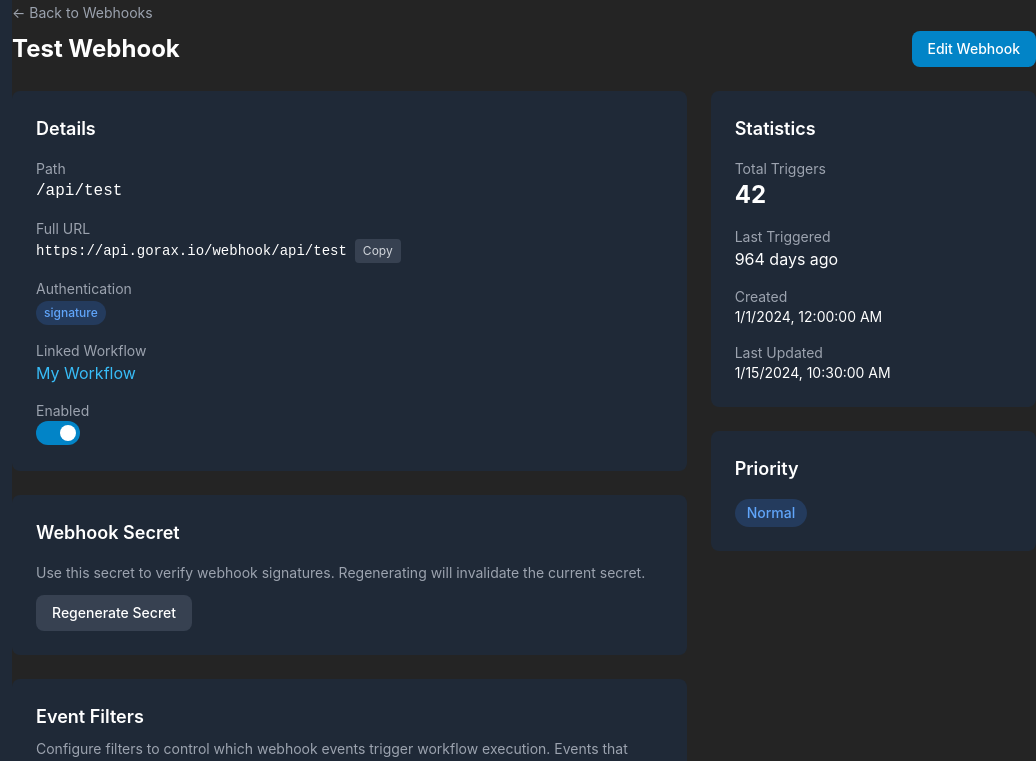
Scenario: WebhookDetail › Copy URL Functionality › should copy URL to clipboard on success
This screenshot has width=1036, height=761.
Step 1. Click the button "Copy" → (378, 251), box left=355, top=239, right=401, bottom=263
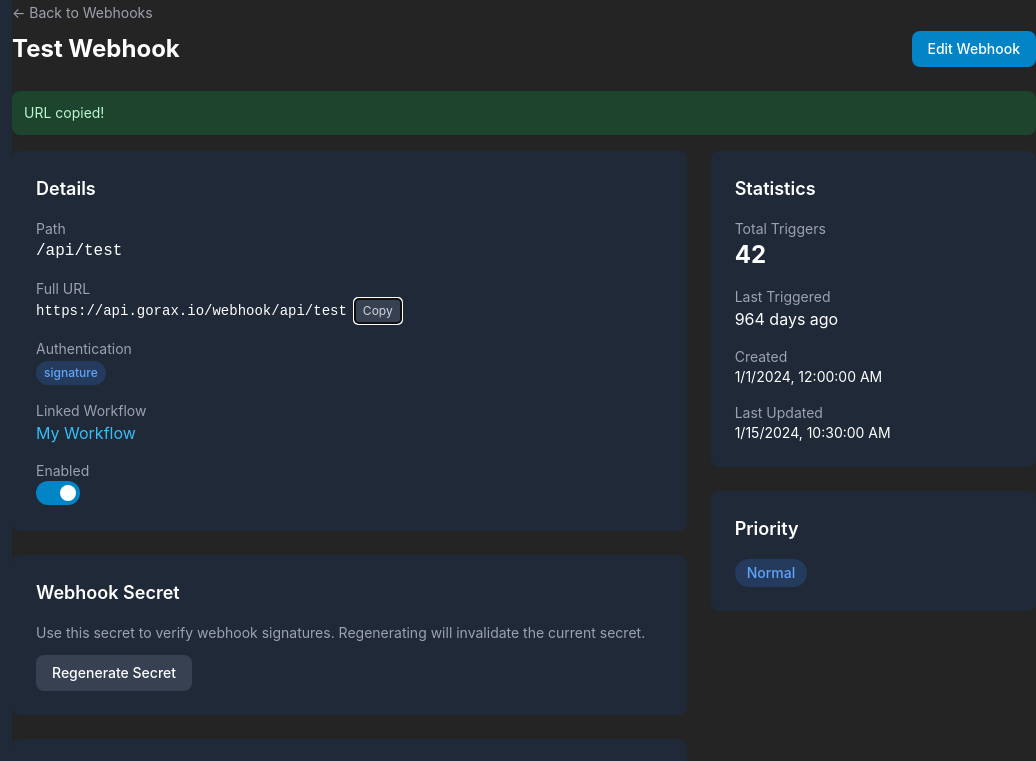
Expected: the text "URL copied!" is shown, left=12, top=91, right=1035, bottom=135
